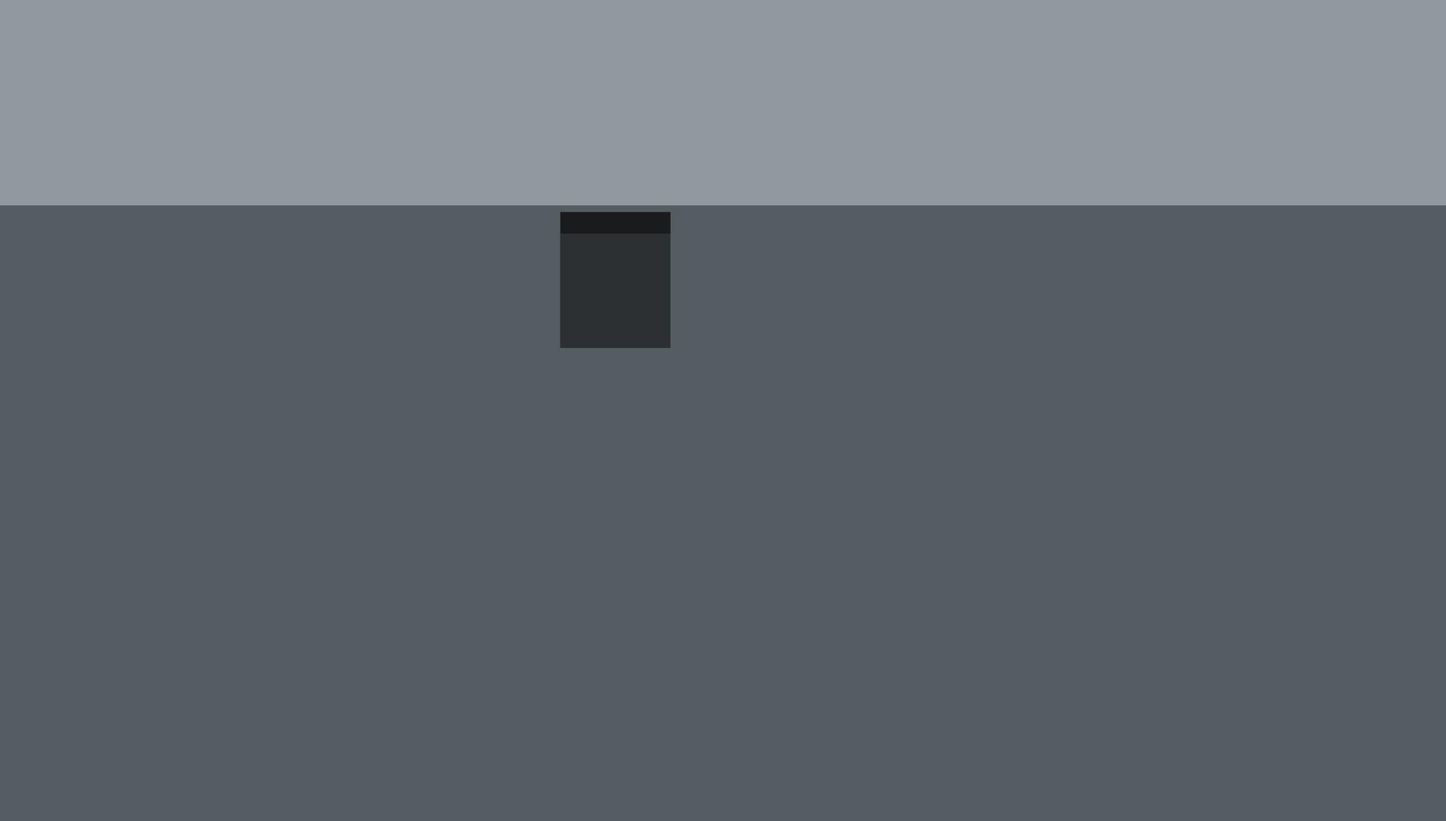garbage container: (558, 209, 673, 351)
